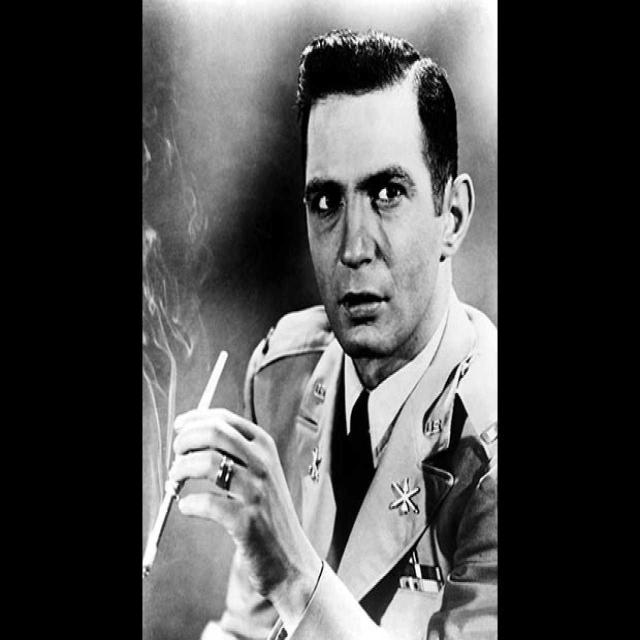Smooking: (140, 314, 247, 576)
